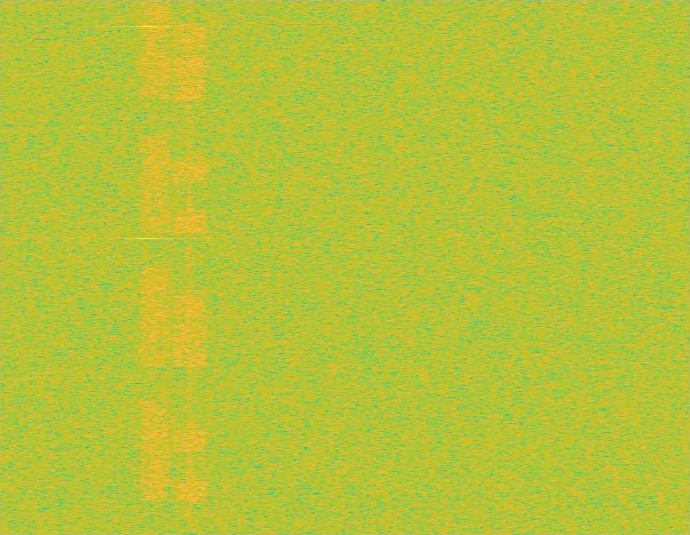5G: (138, 0, 173, 534)
DSSS: (187, 0, 192, 534)
LTE: (173, 0, 207, 534)
Radar: (141, 0, 155, 534)
